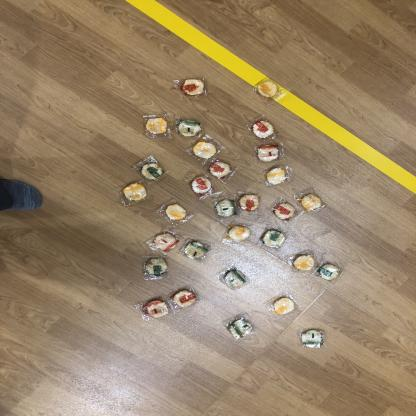green_setoshio: (223, 312, 258, 340), (215, 266, 252, 291), (141, 255, 172, 281), (136, 156, 167, 182), (173, 115, 205, 138), (301, 327, 328, 352), (260, 227, 288, 251), (210, 198, 240, 219), (184, 239, 211, 262), (318, 261, 344, 283)
red_setoshio: (137, 297, 174, 321), (186, 174, 220, 199), (146, 230, 182, 253), (247, 116, 279, 140), (177, 76, 209, 99), (270, 198, 300, 221), (206, 160, 238, 180), (254, 141, 284, 162), (173, 288, 200, 309), (238, 190, 263, 212)
yellow_setoshio: (158, 197, 194, 227), (137, 112, 172, 140), (250, 78, 286, 104), (261, 162, 294, 189), (186, 138, 221, 162), (268, 292, 300, 318), (119, 184, 153, 207), (297, 189, 327, 215), (289, 251, 317, 275), (224, 223, 252, 246)
